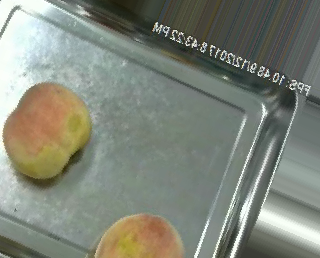Peach: (2, 81, 92, 182), (92, 212, 183, 258)
